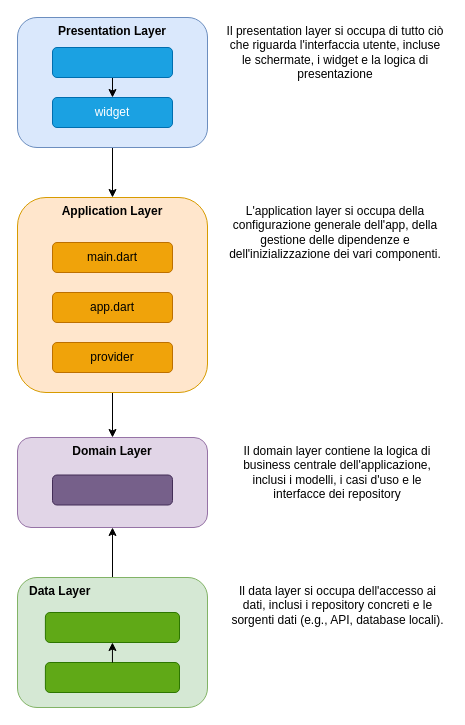
Some shapes in this 465 by 725 pixel diagram are drawn without their labels. Each missing label, with the centre of its shape:
data_sources: the point at 112,627
model: the point at 112,489
repository: the point at 112,677
screen: the point at 112,62
